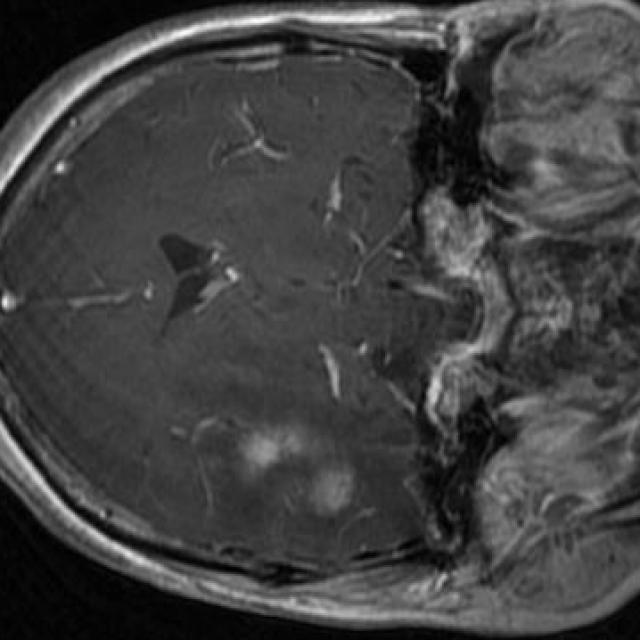glioma: (191, 414, 357, 521)
